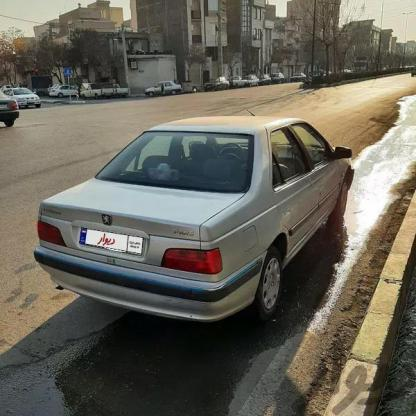Car: (42, 100, 339, 342), (0, 96, 30, 133), (72, 79, 120, 93), (7, 82, 44, 98), (237, 69, 270, 85), (146, 78, 176, 94), (54, 78, 73, 94), (198, 76, 238, 83)
